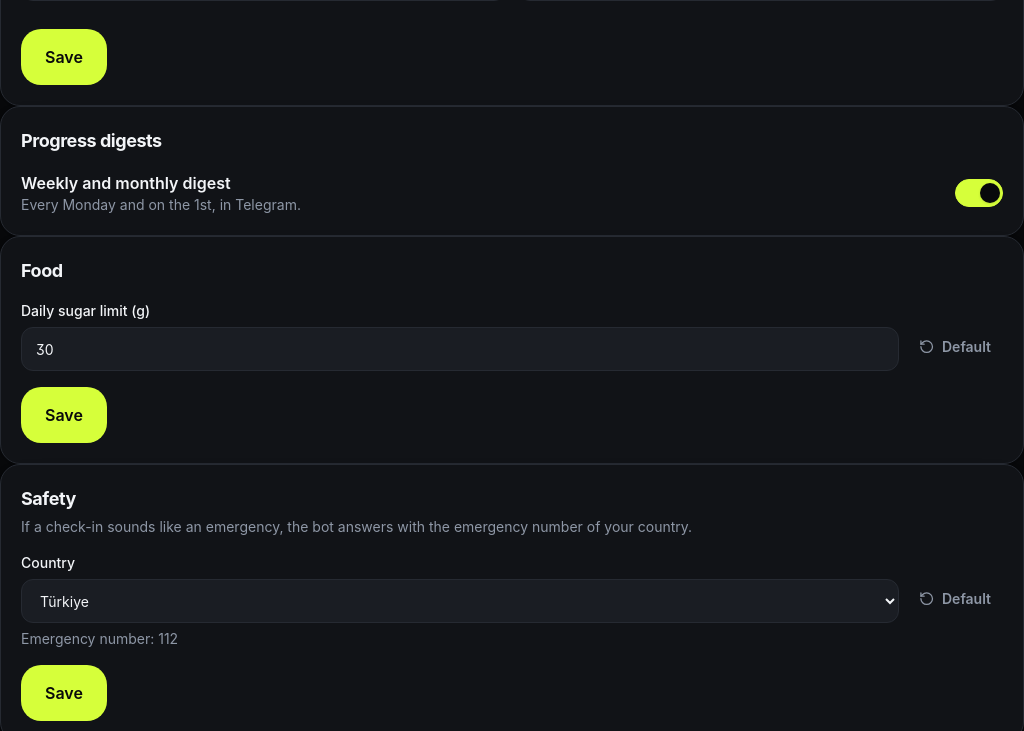
Test case: Coach & reminders › resets a custom field with null and offers no reset for defaults
(page scrolled)
Step 1. Click the button with aria-label "Reset Daily sugar limit (g) to the default" → (955, 347), box [907, 329, 1003, 365]
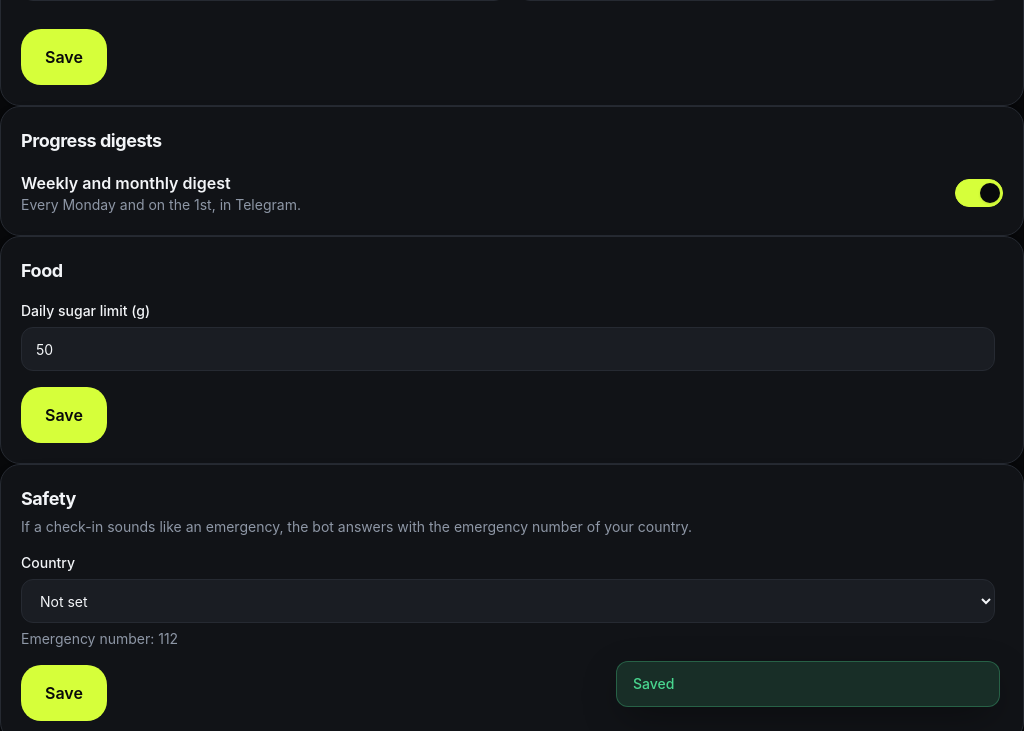
Result: the field labelled "Daily sugar limit (g)" holds "50" at [21, 327, 995, 371]
